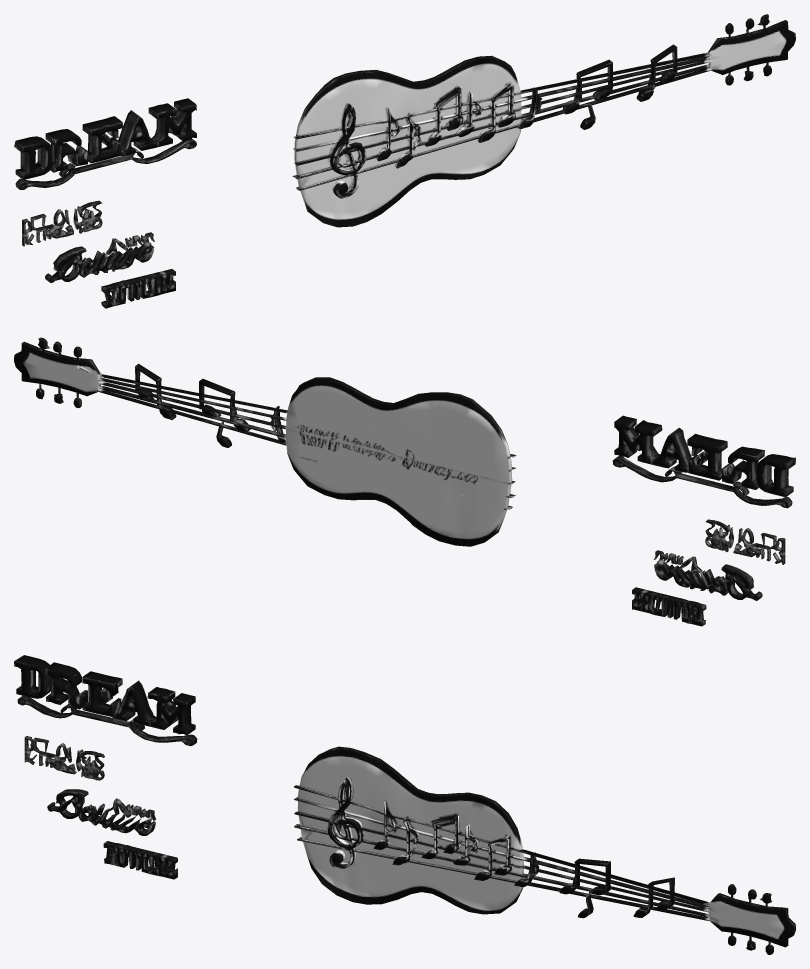
Rendered from Meshy_AI_Melody_of_Dreams_1020124553_texture.glb.
3 renders of one model, top to bottom at view 1: azimuth 30°, elevation 25°; view 2: azimuth 150°, elevation 25°; view 3: azimuth 330°, elevation 25°, orthographic.
Size of the model in its own units: 0.9487 by 0.2188 by 0.022.
Materials: 1 (1 with a texture image).
